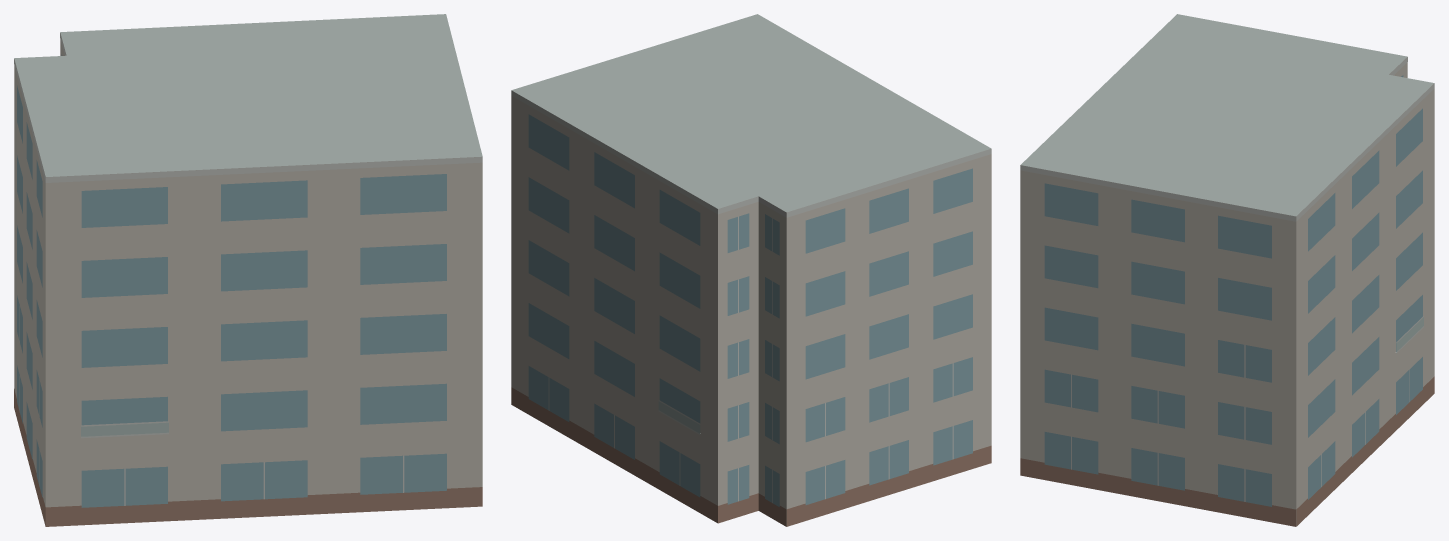
The model's file is survey-upis-33027029.glb.
3 views of the same model, side by side, from view 1: azimuth 30°, elevation 25°; view 2: azimuth 150°, elevation 25°; view 3: azimuth 270°, elevation 25° (orthographic). The views are drawn at different scales.
Visible parts, largest first — view 1: survey-upis-33027029.tmp; view 2: survey-upis-33027029.tmp; view 3: survey-upis-33027029.tmp.
Boxes of the visible parts, x1,y1,x2,y2 form: survey-upis-33027029.tmp: [14, 14, 482, 526]; survey-upis-33027029.tmp: [511, 14, 991, 526]; survey-upis-33027029.tmp: [1020, 14, 1434, 526].
Size of the model in its own units: 20.01 by 14.3 by 17.3.
